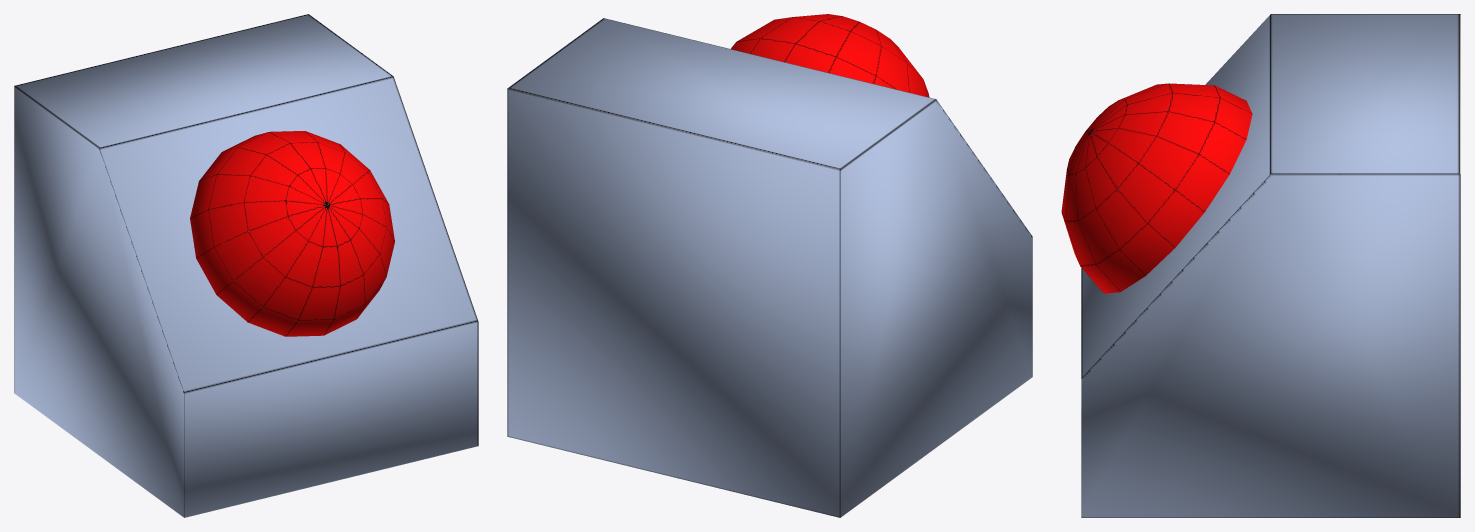
The model's file is ButtonConsole.obj.
3 views of the same model, side by side, from view 1: azimuth 30°, elevation 25°; view 2: azimuth 150°, elevation 25°; view 3: azimuth 270°, elevation 25° (orthographic). The views are drawn at different scales.
Parts seen in each view (by area): view 1: cube1, sphere2; view 2: cube1, sphere2; view 3: cube1, sphere2.
Part boxes in pixels (box(x1,y1,x2,y2)): cube1: box(14, 14, 478, 517); sphere2: box(190, 131, 394, 336); cube1: box(507, 18, 1032, 517); sphere2: box(731, 14, 929, 97); cube1: box(1081, 14, 1460, 517); sphere2: box(1061, 83, 1252, 293).
Bounding box in the file's own units: 10 × 10.04 × 10.52.
Materials: 2 (2 with a texture image).
